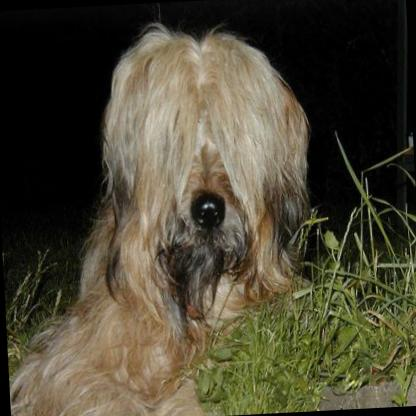briard: (0, 7, 322, 416)
